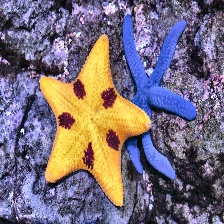starfish: (117, 14, 223, 223), (39, 36, 152, 219)
